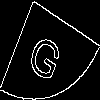G: (25, 25, 68, 84)
